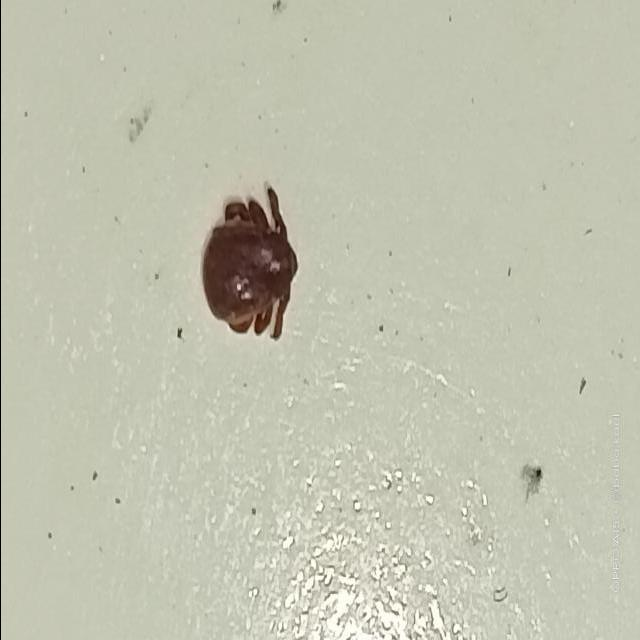Rhipicephalus Sanguineus-M: (200, 185, 299, 341)
